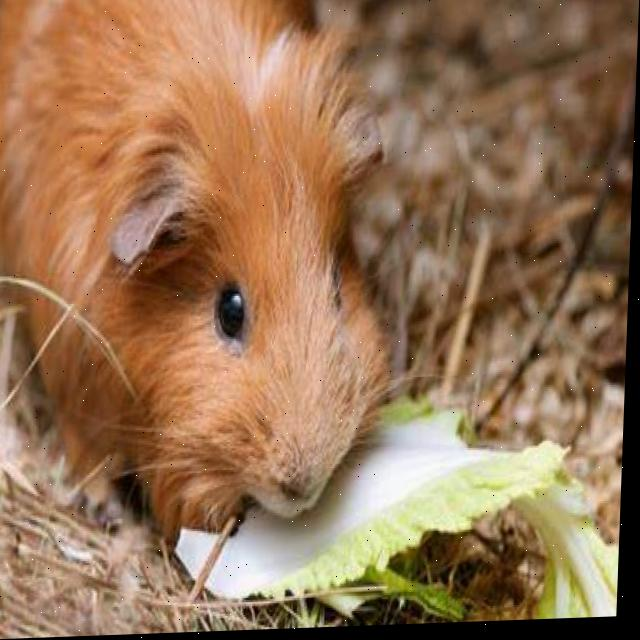guinea pig: (0, 0, 411, 546)
